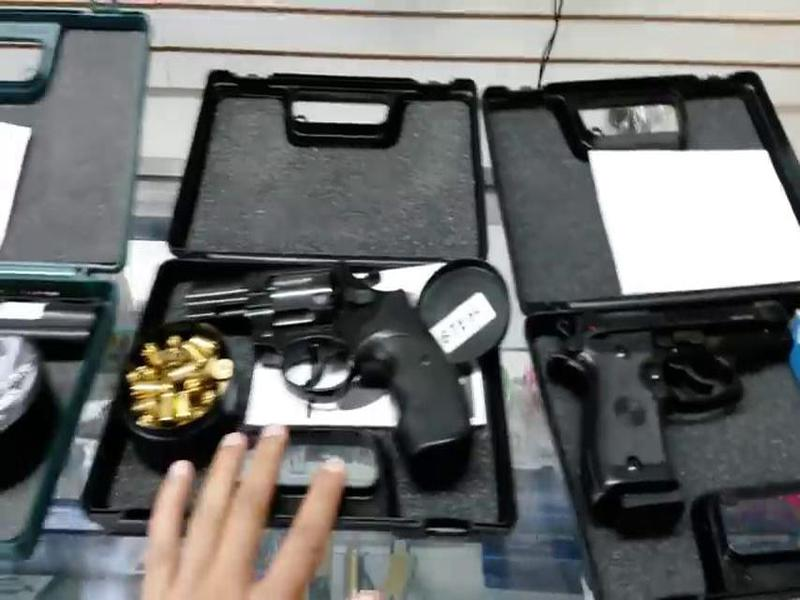Pistola: (558, 282, 797, 527)
Revolver: (182, 254, 490, 493)
